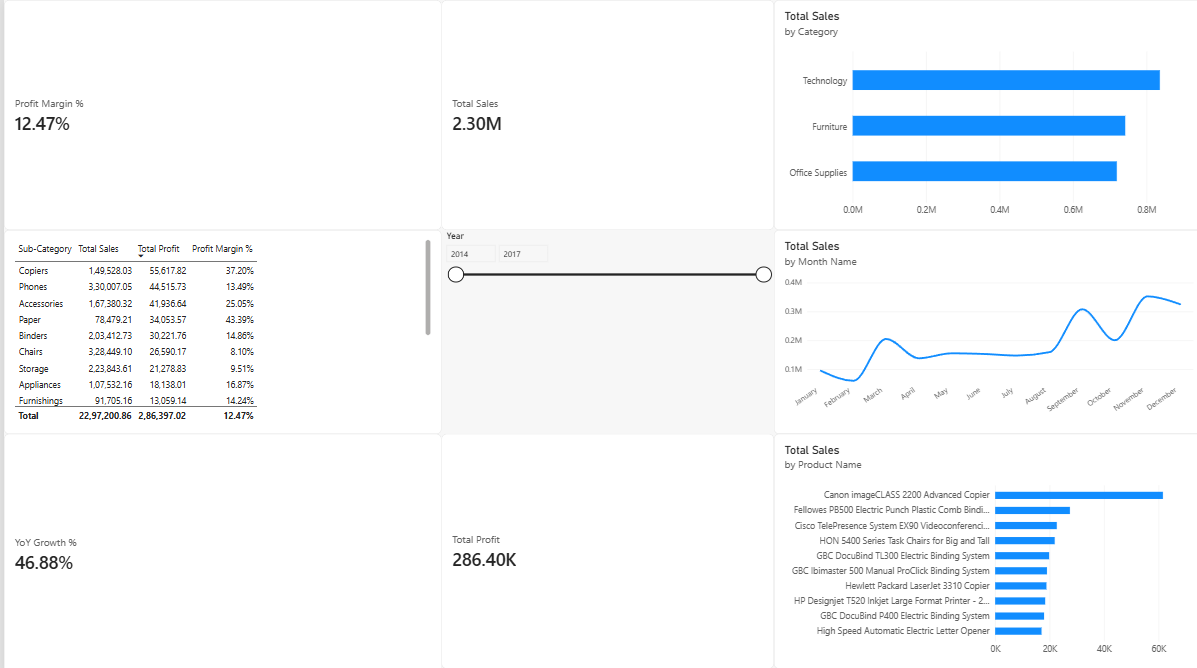

The page's visual inventory and layout, read from the dashboard file:
{"tool":"powerbi","page":{"name":"Page 1","canvas":[1920,1080],"ordinal":0},"visuals":[{"type":"cardVisual","fields":{"Data":["Fact_Sales.Total Sales"]},"box":[700,0,532,368],"z":0},{"type":"cardVisual","fields":{"Data":["Fact_Sales.Total Profit"]},"box":[700,694,532,376],"z":1},{"type":"cardVisual","fields":{"Data":["Fact_Sales.Profit Margin %"]},"box":[0,0,700,368],"z":2},{"type":"cardVisual","fields":{"Data":["Fact_Sales.YoY Growth %"]},"box":[0,694,700,386],"z":3},{"type":"slicer","fields":{"Values":["Dim_Date.Year"]},"box":[700,368,532,326],"z":4},{"type":"lineChart","fields":{"Category":["Dim_Date.Month Name"],"Y":["Fact_Sales.Total Sales"]},"box":[1232,368,688,326],"z":5},{"type":"barChart","fields":{"Category":["Dim_Product.Category"],"Y":["Fact_Sales.Total Sales"]},"box":[1232,0,688,368],"z":6},{"type":"tableEx","fields":{"Values":["Dim_Product.Sub-Category","Fact_Sales.Total Sales","Fact_Sales.Total Profit","Fact_Sales.Profit Margin %"]},"box":[0,368,700,326],"z":7},{"type":"barChart","fields":{"Category":["Dim_Product.Product Name"],"Y":["Fact_Sales.Total Sales"]},"box":[1232,694,688,376],"z":8}]}

Visuals, with their boxes in screenshot pixels (x1, y1, x2, y2), scaled from the page's 1920x1080 canvas onto the 1197x668 screenshot:
cardVisual - Fact_Sales.Total Sales: <box>436,0,768,228</box>
cardVisual - Fact_Sales.Total Profit: <box>436,429,768,662</box>
cardVisual - Fact_Sales.Profit Margin %: <box>0,0,436,228</box>
cardVisual - Fact_Sales.YoY Growth %: <box>0,429,436,667</box>
slicer - Dim_Date.Year: <box>436,228,768,429</box>
lineChart - Dim_Date.Month Name x Fact_Sales.Total Sales: <box>768,228,1196,429</box>
barChart - Dim_Product.Category x Fact_Sales.Total Sales: <box>768,0,1196,228</box>
tableEx - Dim_Product.Sub-Category x Fact_Sales.Total Sales: <box>0,228,436,429</box>
barChart - Dim_Product.Product Name x Fact_Sales.Total Sales: <box>768,429,1196,662</box>
